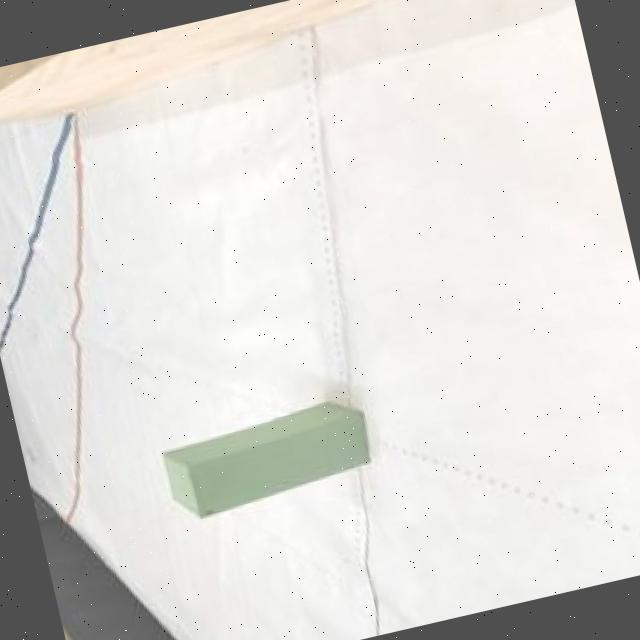greenbox: (156, 390, 378, 521)
